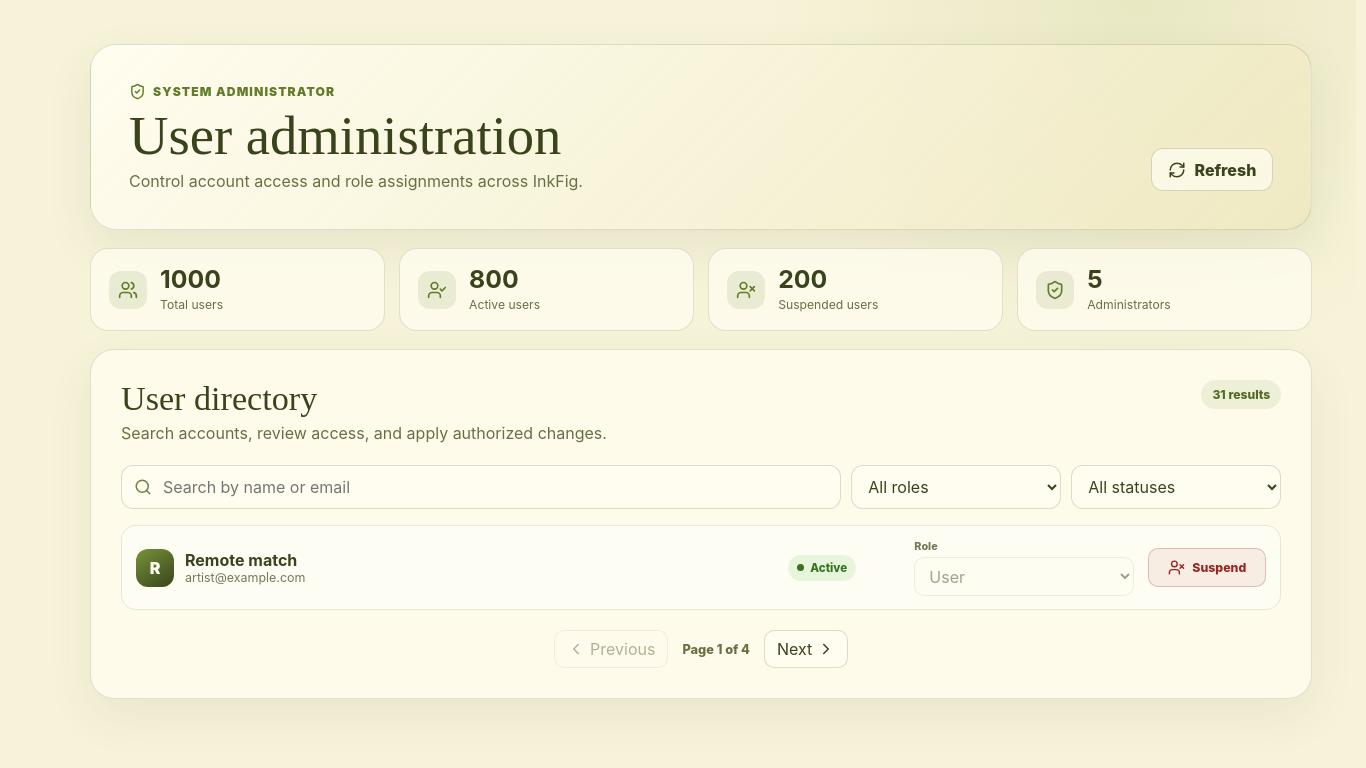
Test: requests only the selected server page and uses server totals for page numbers and overview
The width and height of the screenshot is (1366, 768).
Check: the text "Remote match" is shown, box [185,550,306,570]
Check: the text "1000" is shown, box [160,267,223,292]
Click the button "Next".
click(806, 649)  # box [764,630,848,668]
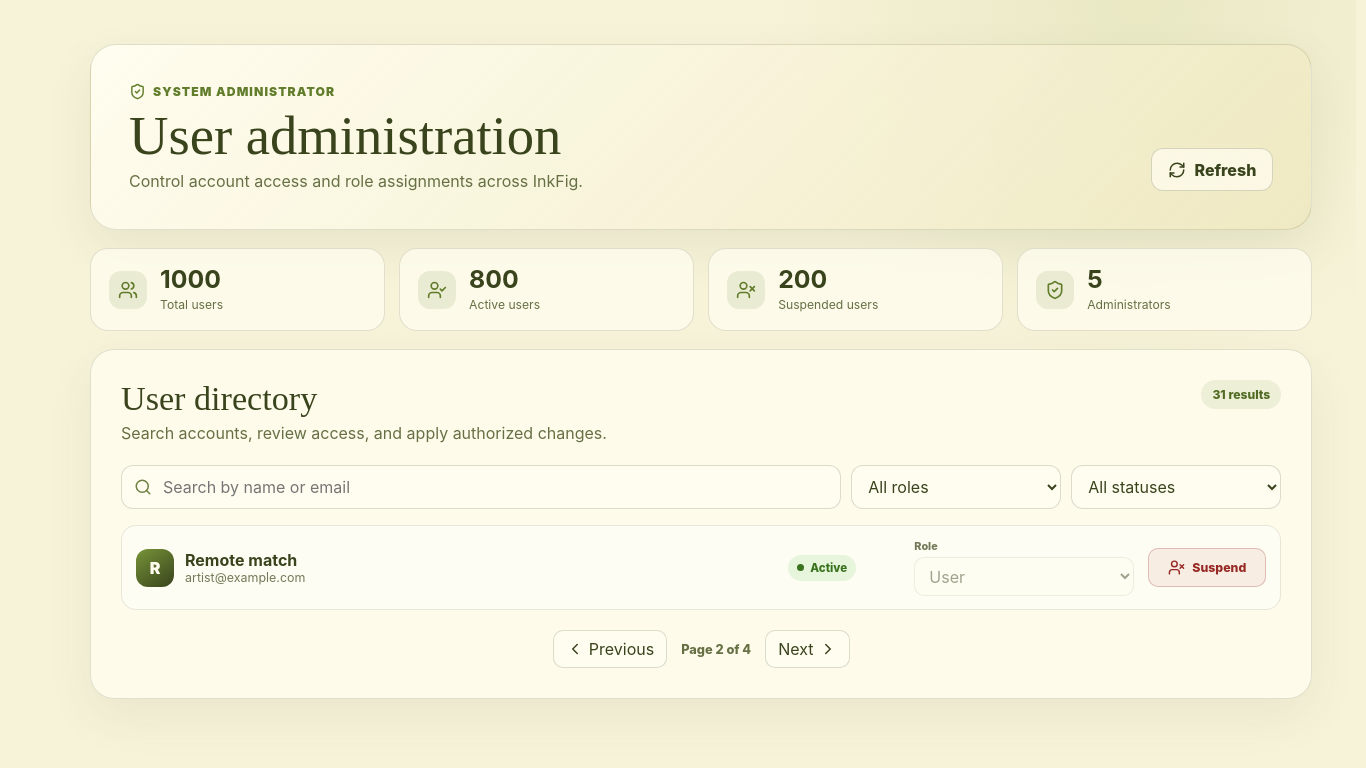
Check: the text "Page 2 of 4" is shown, box [681,642,751,657]
Click the button "Previous".
click(610, 649)  # box [553,630,667,668]
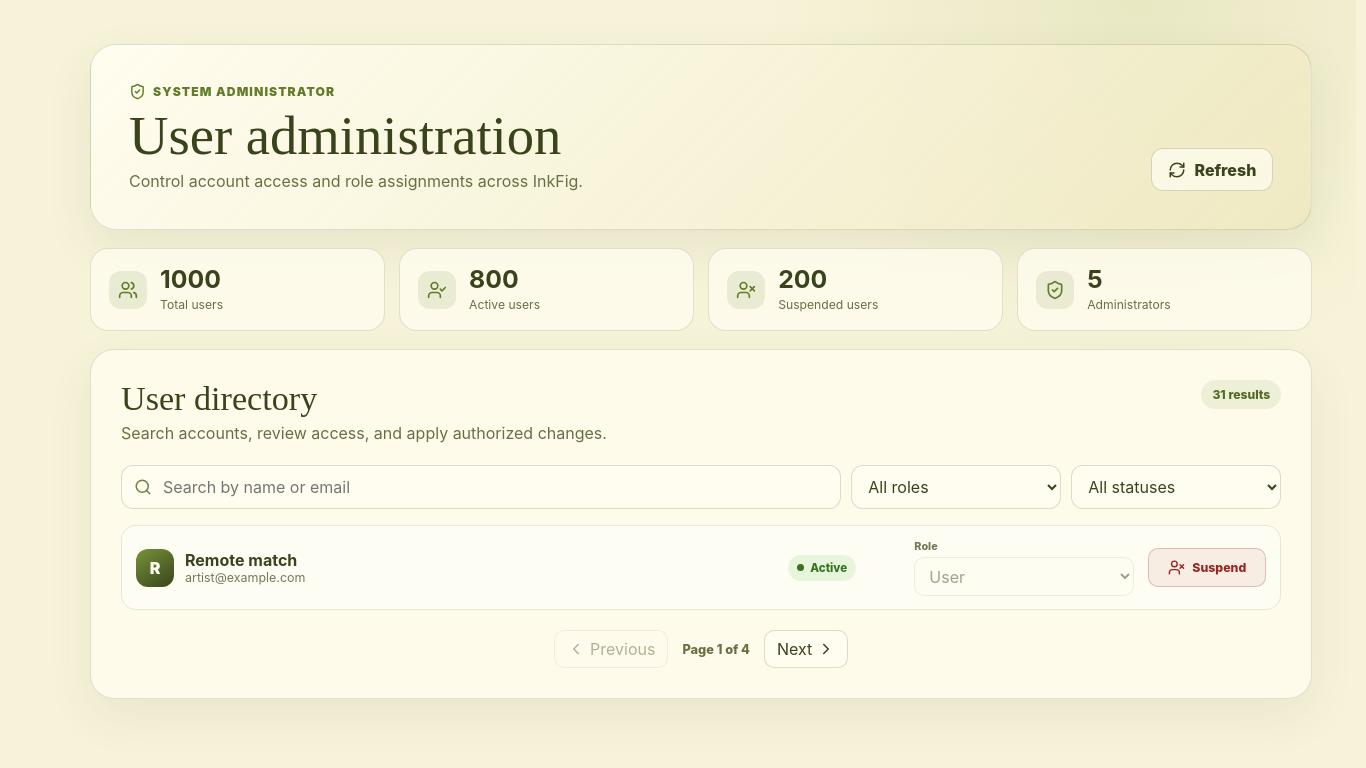
Check: the text "Page 1 of 4" is shown, box [682,642,750,657]
